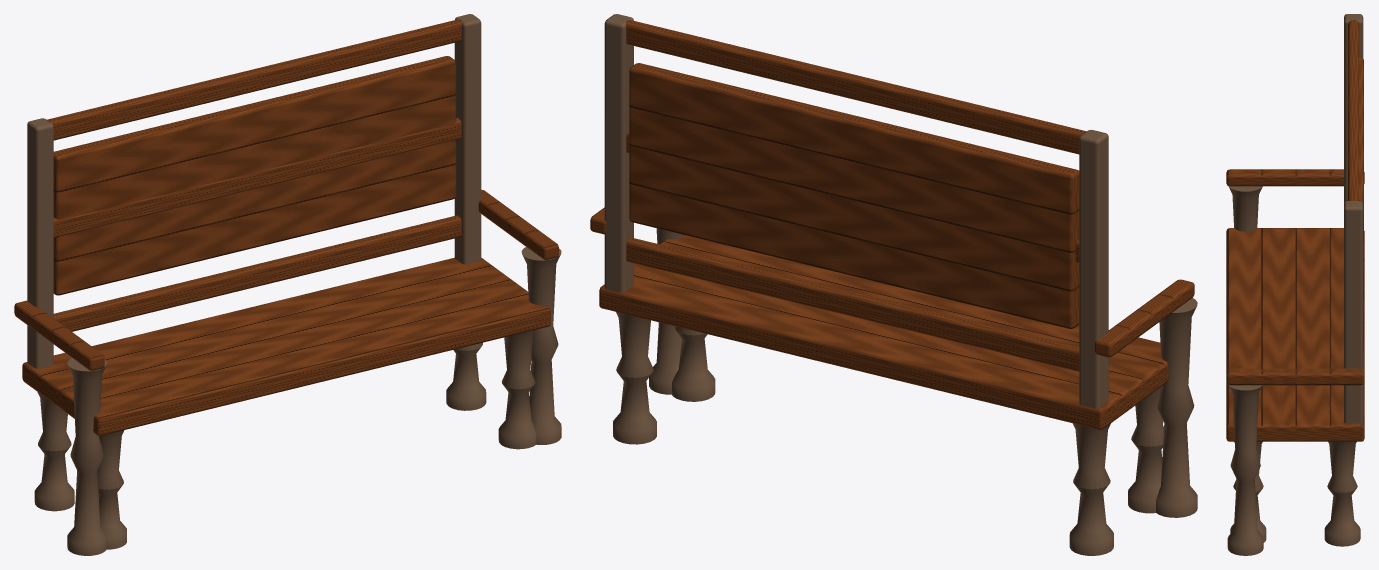
The model's file is adventurers-tavern-and-guild-hall-high-back-settle-c76ef694__24691.glb.
3 views of the same model, side by side, from view 1: azimuth 30°, elevation 25°; view 2: azimuth 150°, elevation 25°; view 3: azimuth 270°, elevation 25° (orthographic). The views are drawn at different scales.
Parts seen in each view (by area): view 1: high-back-settle; view 2: high-back-settle; view 3: high-back-settle.
Part boxes in pixels (x1,y1,x2,y2): high-back-settle: (14,14,561,555); high-back-settle: (590,14,1197,555); high-back-settle: (1226,14,1364,555).
Size of the model in its own units: 1.83 by 1.35 by 0.5.
Materials: 2 (1 with a texture image).
